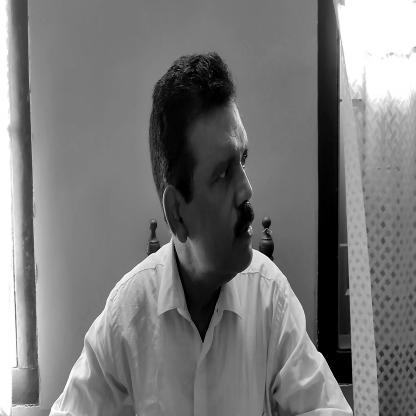Distracted: (150, 59, 263, 280)
